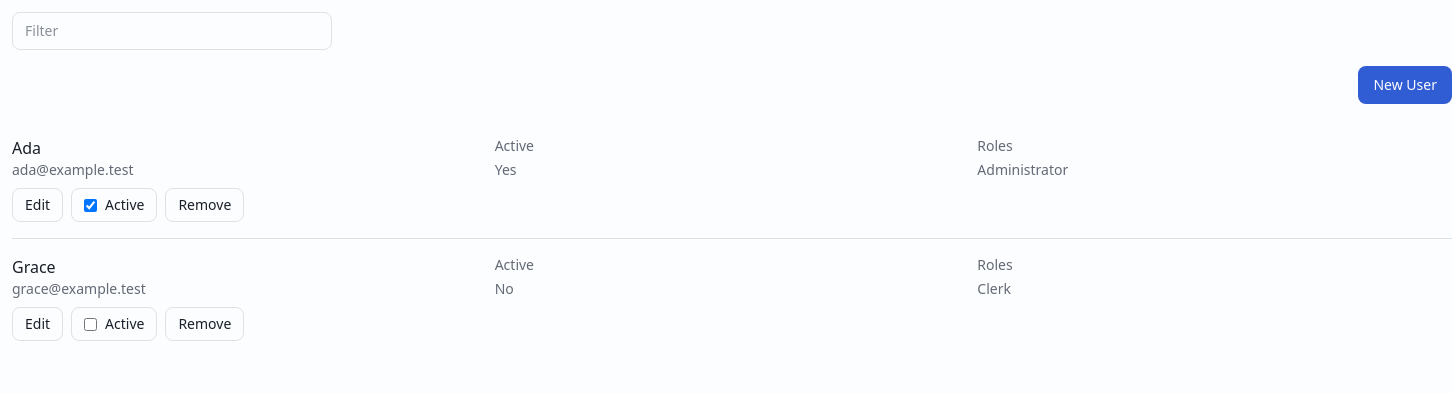
Scenario: UsersList row actions › shows a refused removal as an inline alert
Expected: the text "ada@example.test" is shown, left=12, top=160, right=134, bottom=179
Click the button "Remove" below "ada@example.test" at (205, 205), box left=165, top=188, right=244, bottom=222
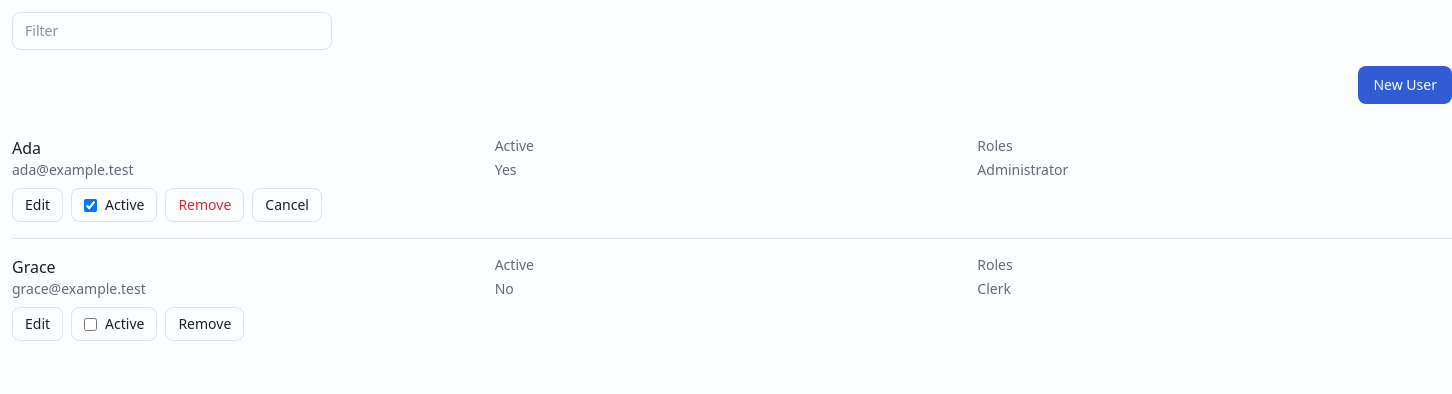
Click the button "Remove" below "ada@example.test" at (205, 205), box left=165, top=188, right=244, bottom=222
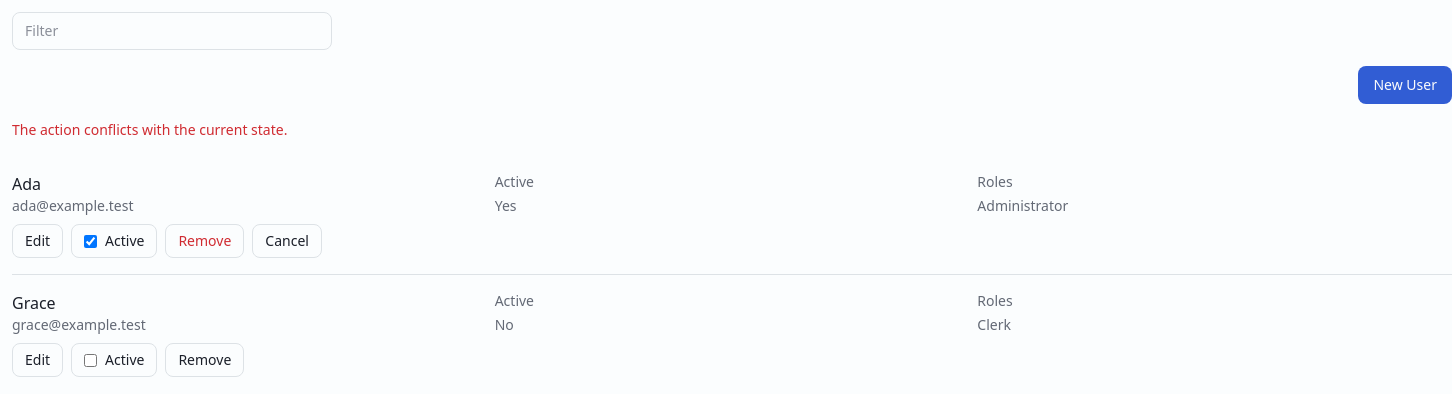
Expected: the message reads "The action conflicts with the current state.", left=12, top=120, right=287, bottom=139
